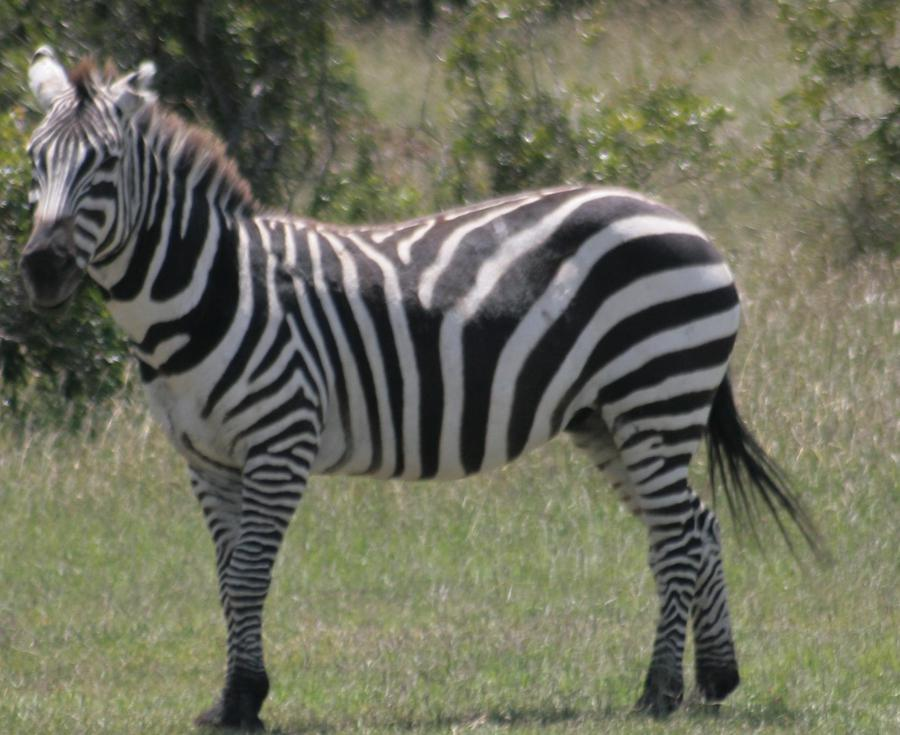zebra_plains: (166, 179, 776, 483)
